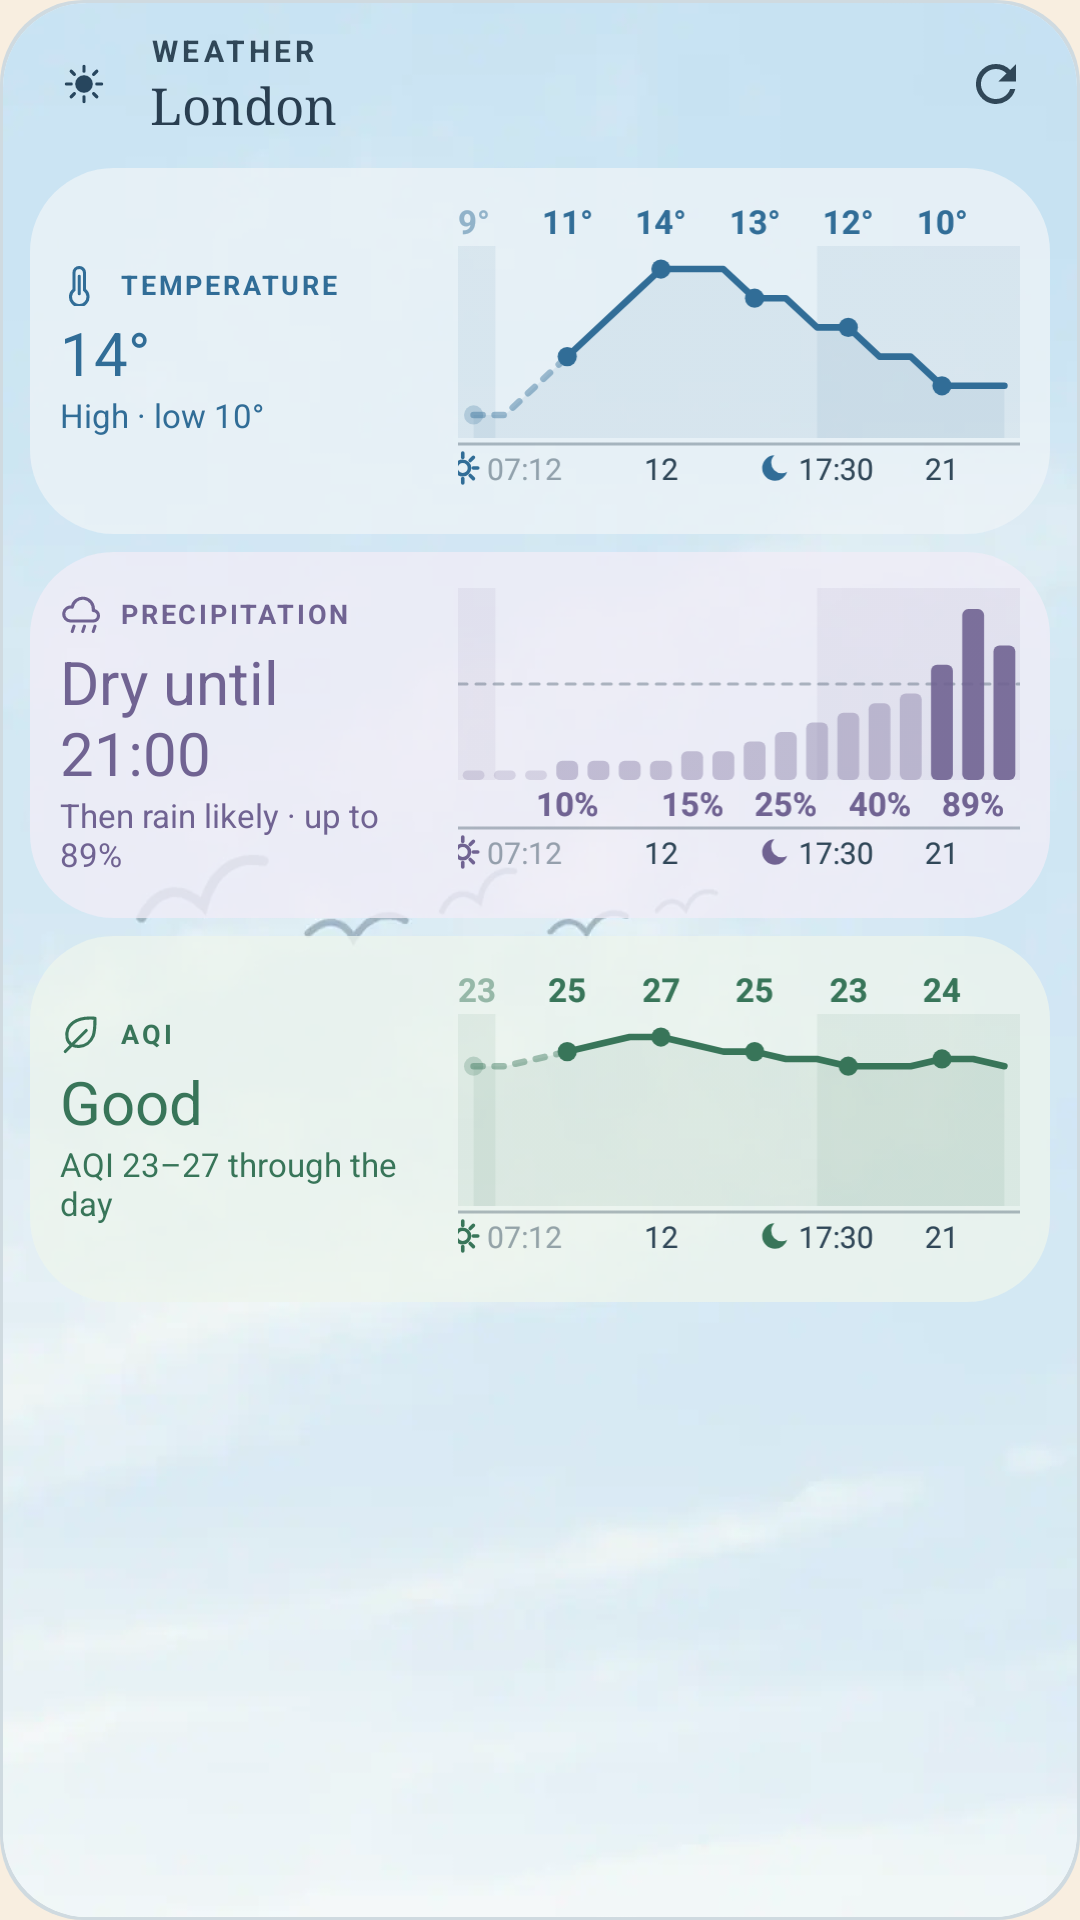

Where to tap for icons on this 1080px x 1920px app screen, as (x,y):
leaf: (80,1035)
rain: (81,614)
refresh: (996,84)
sun: (84,84)
thermometer: (79,286)
